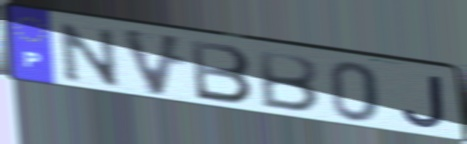0: (326, 59, 382, 124)
B: (187, 37, 256, 107), (257, 48, 321, 115)
J: (398, 72, 449, 131)
N: (54, 19, 124, 89)
V: (117, 25, 188, 100)
